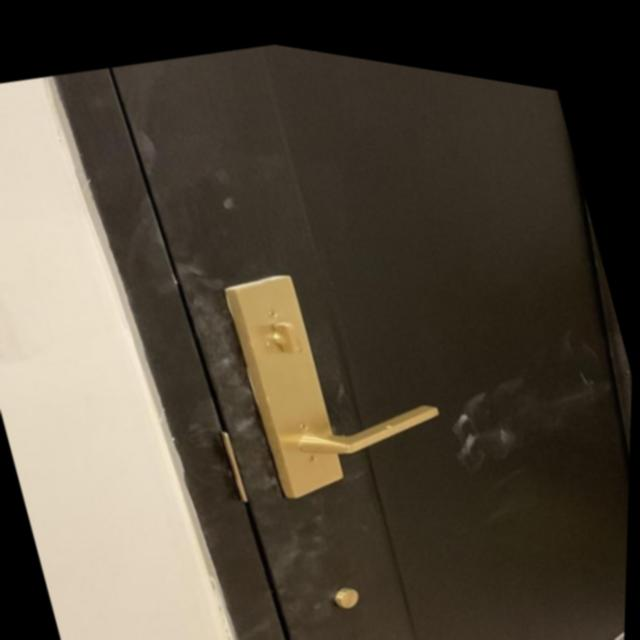door_handle: (256, 343, 471, 493)
